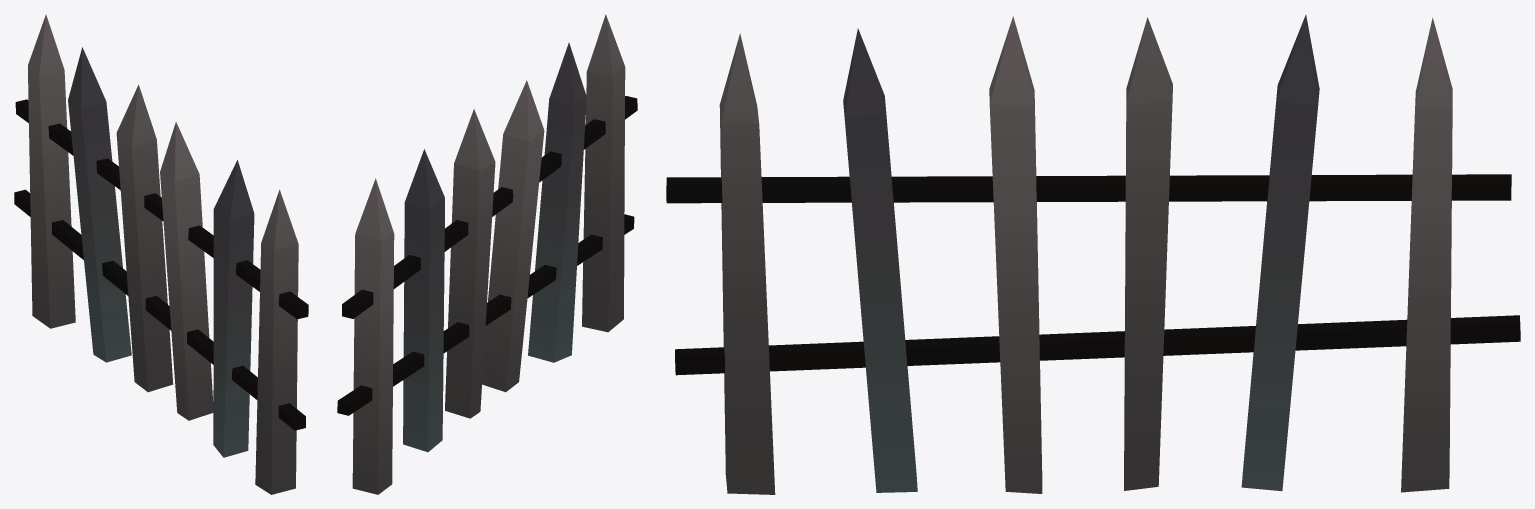
Rendered from village_town_fence.glb.
The picture shows the model from 3 angles, left to right: view 1: azimuth 30°, elevation 25°; view 2: azimuth 150°, elevation 25°; view 3: azimuth 270°, elevation 25°; orthographic projection. The views are drawn at different scales.
Visible parts, largest first — view 1: Fence.001_Material.005_0; view 2: Fence.001_Material.005_0; view 3: Fence.001_Material.005_0.
Boxes of the visible parts, <box> form: Fence.001_Material.005_0: <box>14,14,308,494</box>; Fence.001_Material.005_0: <box>337,14,637,494</box>; Fence.001_Material.005_0: <box>666,15,1520,494</box>.
Size of the model in its own units: 0.1515 by 0.9889 by 1.64.
1 material, 1 textured.
